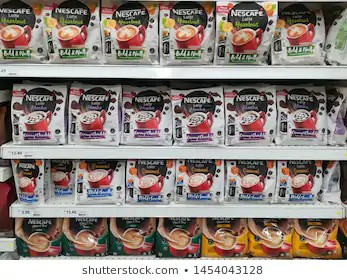nescafe-classic/gold-big: (216, 1, 276, 67), (10, 81, 67, 147), (67, 83, 125, 146), (102, 5, 162, 65), (162, 2, 216, 67), (275, 83, 329, 147), (50, 1, 104, 64), (172, 87, 228, 146), (123, 82, 173, 146), (1, 4, 50, 66), (227, 83, 275, 145), (277, 4, 324, 65), (126, 160, 177, 207), (75, 160, 125, 205), (181, 157, 226, 206), (227, 162, 276, 203), (276, 160, 322, 203), (13, 156, 50, 205), (49, 161, 74, 200)
